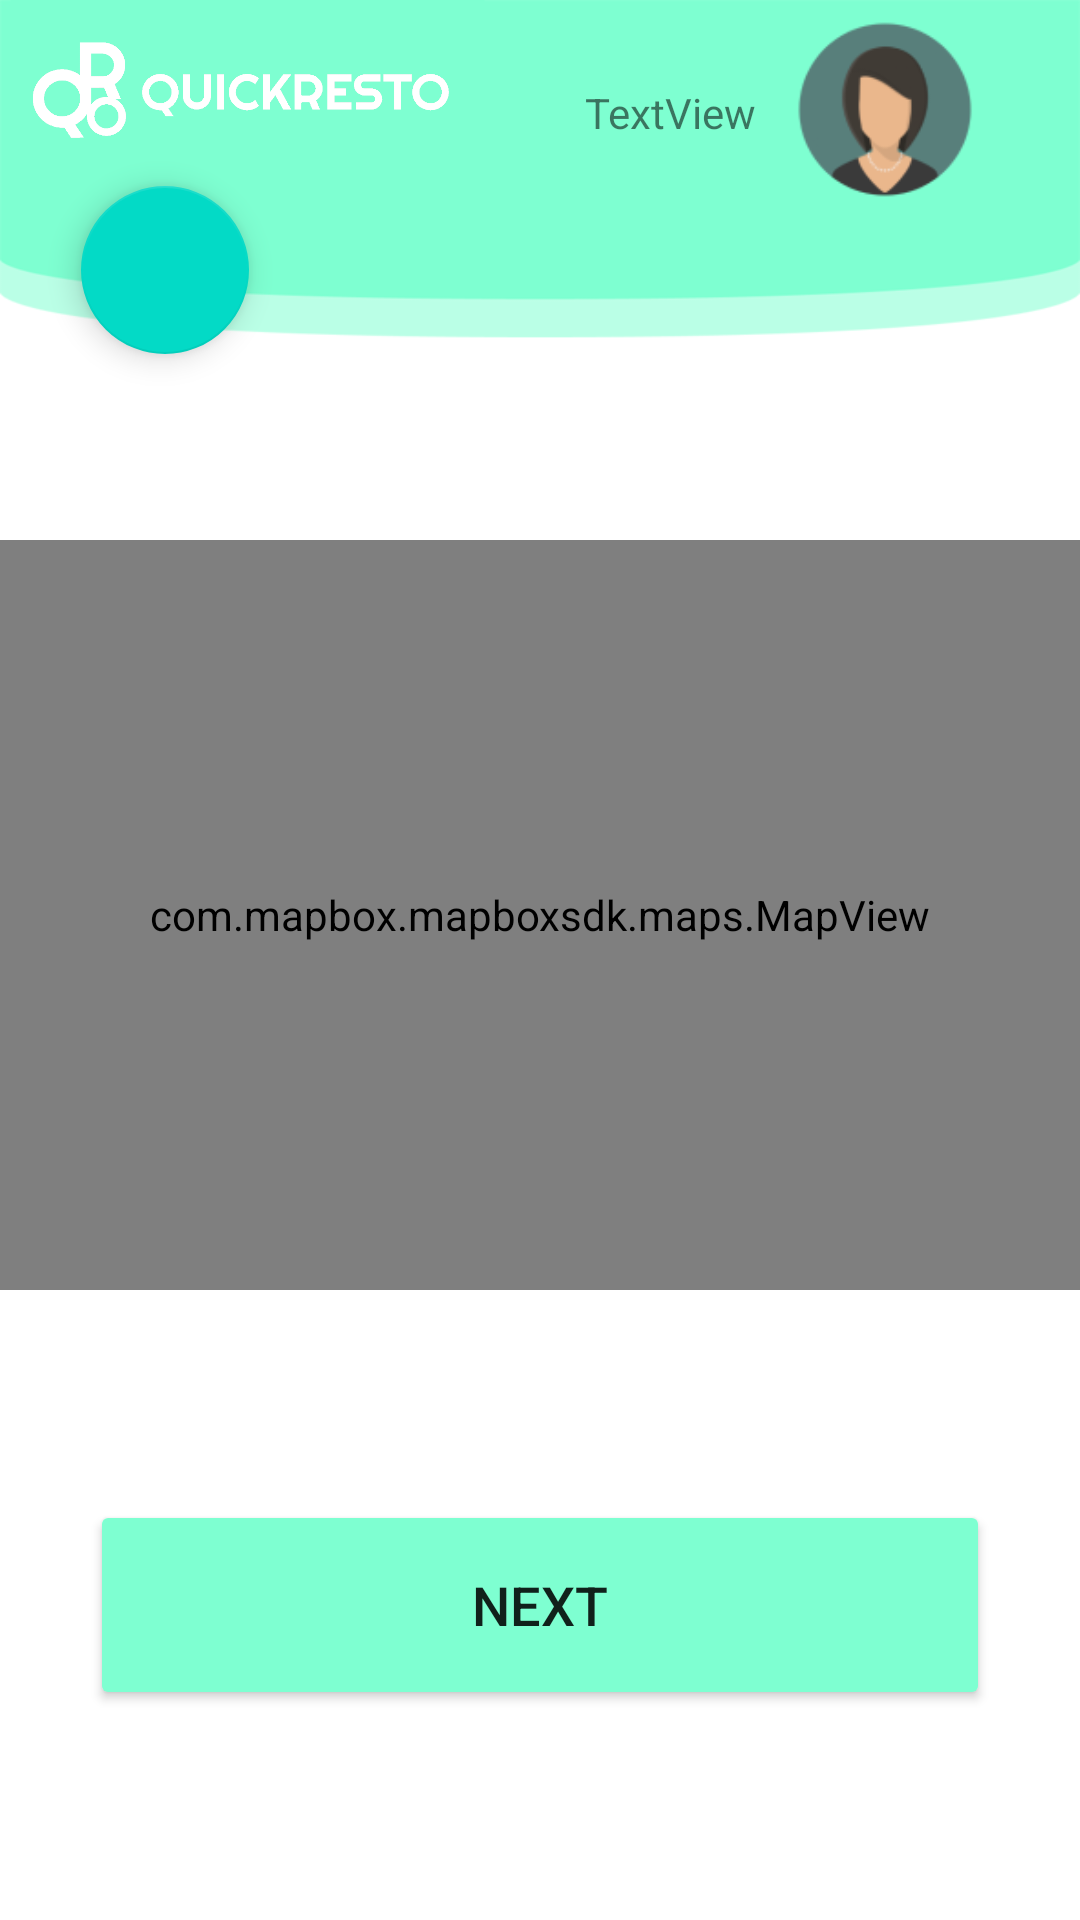

Icons on this 1080*1920 Android screen, each with the point to tap as (x=x, y=y):
user: (x=885, y=110)
